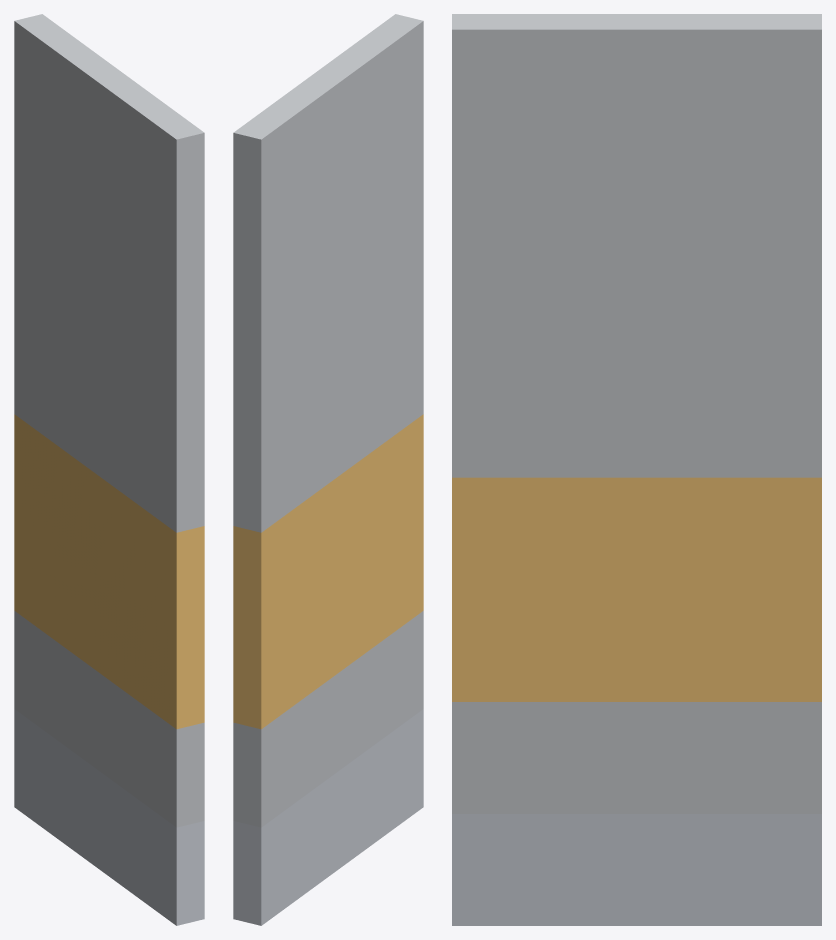
The model's file is new_corridor2 .glb.
3 views of the same model, side by side, from view 1: azimuth 30°, elevation 25°; view 2: azimuth 150°, elevation 25°; view 3: azimuth 270°, elevation 25° (orthographic). The views are drawn at different scales.
Visible parts, largest first — view 1: corridor_wall; view 2: corridor_wall; view 3: corridor_wall.
Boxes of the visible parts, x1,y1,x2,y2 form: corridor_wall: (14, 14, 204, 925); corridor_wall: (233, 14, 423, 925); corridor_wall: (452, 14, 821, 925).
Size of the model in its own units: 0.1 by 2.67 by 1.
